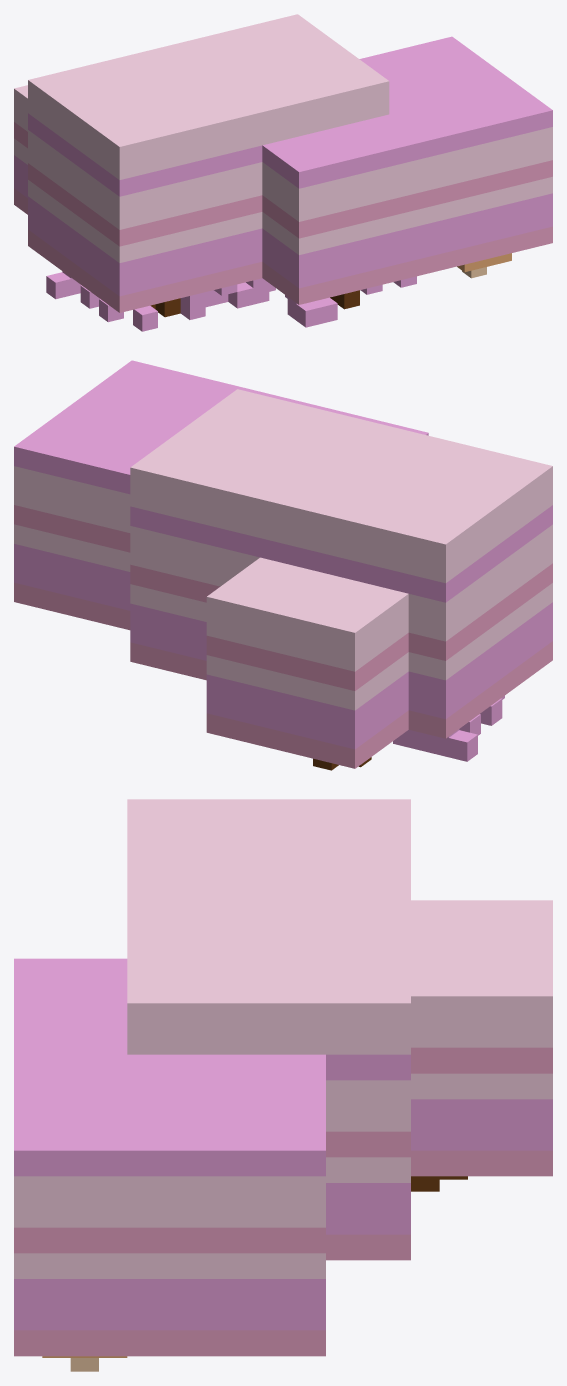
Rendered from bush_A.obj.
3 renders of one model, top to bottom at view 1: azimuth 30°, elevation 25°; view 2: azimuth 150°, elevation 25°; view 3: azimuth 270°, elevation 25°, orthographic. The views are drawn at different scales.
Size of the model in its own units: 2.5 by 1.2 by 1.9.
Materials: 1 (1 with a texture image).
